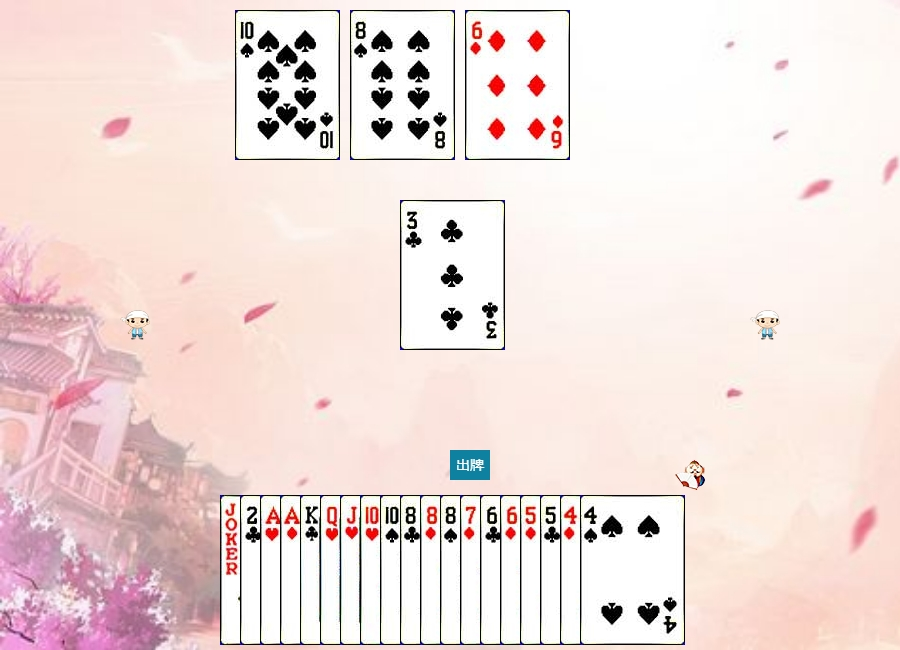10~3: (360, 495, 465, 645)
10~4: (235, 10, 340, 160), (380, 495, 485, 645)
11~3: (340, 495, 445, 645)
12~3: (320, 495, 425, 645)
13~2: (300, 495, 405, 645)
14~1: (280, 495, 385, 645)
14~3: (260, 495, 365, 645)
15~2: (240, 495, 345, 645)
18~4: (220, 495, 325, 645)
3~2: (400, 200, 505, 350)
4~1: (560, 495, 665, 645)
4~4: (580, 495, 685, 645)
5~1: (520, 495, 625, 645)
5~2: (540, 495, 645, 645)
6~1: (465, 10, 570, 160), (500, 495, 605, 645)
6~2: (480, 495, 585, 645)
7~1: (460, 495, 565, 645)
8~1: (420, 495, 525, 645)
8~2: (400, 495, 505, 645)
8~4: (350, 10, 455, 160), (440, 495, 545, 645)
